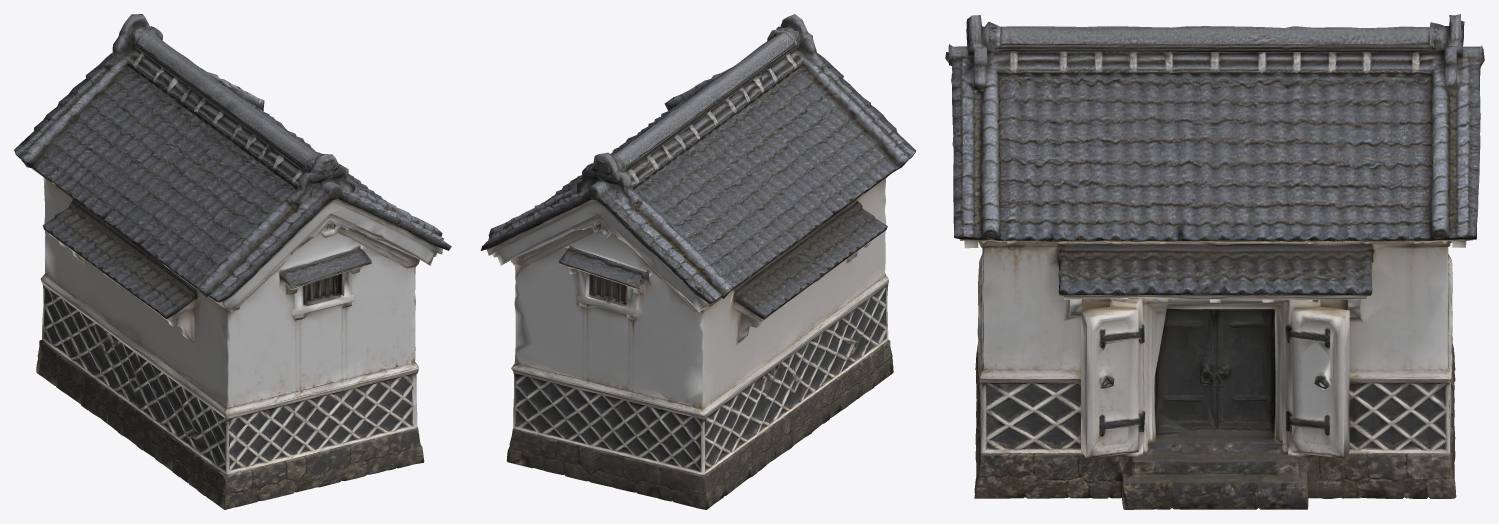
Rendered from kura.glb.
3 views of the same model, side by side, from view 1: azimuth 30°, elevation 25°; view 2: azimuth 150°, elevation 25°; view 3: azimuth 270°, elevation 25° (orthographic). The views are drawn at different scales.
Parts seen in each view (by area): view 1: tripo_node_bf5514ef-7bab-48e5-828b-4acd0d7d9760; view 2: tripo_node_bf5514ef-7bab-48e5-828b-4acd0d7d9760; view 3: tripo_node_bf5514ef-7bab-48e5-828b-4acd0d7d9760.
Part boxes in pixels (x1,y1,x2,y2): tripo_node_bf5514ef-7bab-48e5-828b-4acd0d7d9760: [14, 14, 451, 509]; tripo_node_bf5514ef-7bab-48e5-828b-4acd0d7d9760: [480, 14, 916, 509]; tripo_node_bf5514ef-7bab-48e5-828b-4acd0d7d9760: [945, 14, 1484, 509].
Size of the model in its own units: 5 by 6.23 by 7.2.
Materials: 1 (1 with a texture image).
